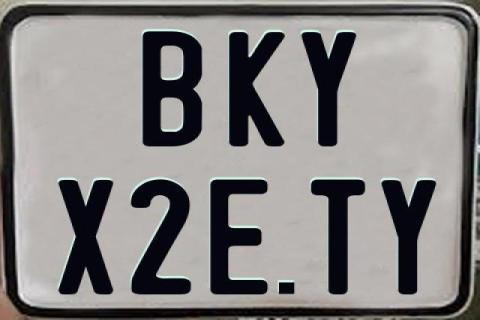0: (128, 179, 188, 297)
B: (141, 29, 205, 148)
E: (208, 179, 267, 295)
K: (228, 31, 285, 148)
T: (309, 178, 367, 294)
X: (57, 178, 118, 294)
Y: (380, 180, 437, 298), (300, 32, 356, 146)
